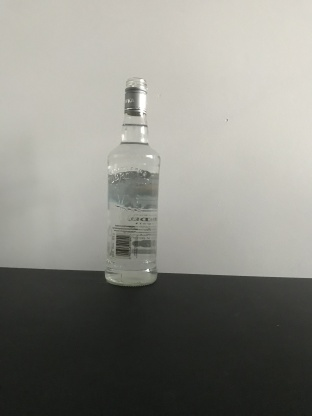nakretka: (122, 74, 149, 117)
